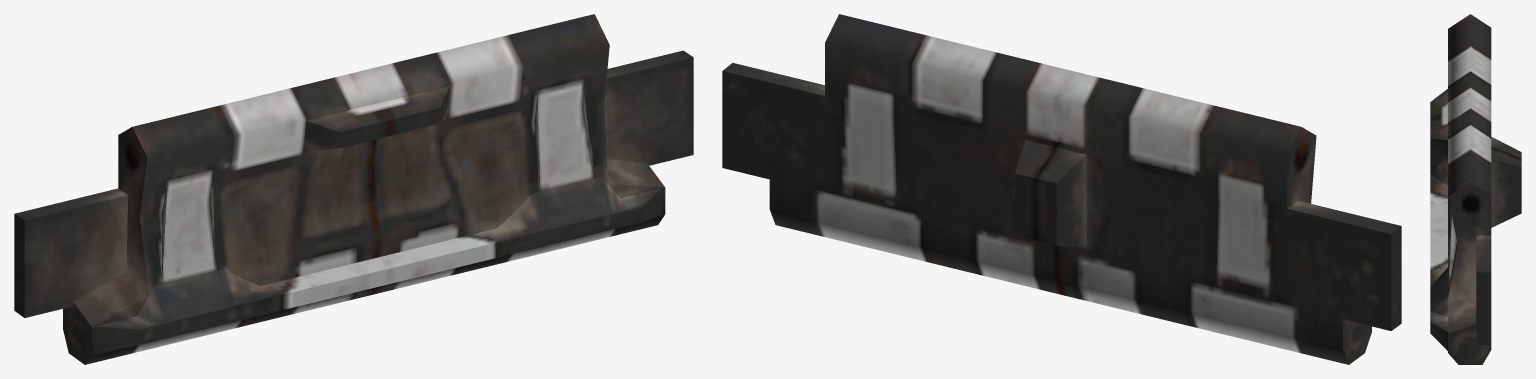
3 renders of one model, left to right at view 1: azimuth 30°, elevation 25°; view 2: azimuth 150°, elevation 25°; view 3: azimuth 270°, elevation 25°, orthographic. The views are drawn at different scales.
Visible parts, largest first — view 1: set_0_group_0; view 2: set_0_group_0; view 3: set_0_group_0.
Boxes of the visible parts, x1,y1,x2,y2 form: set_0_group_0: [14, 14, 693, 364]; set_0_group_0: [722, 14, 1401, 364]; set_0_group_0: [1430, 14, 1521, 364].
Size of the model in its own units: 0.7002 by 0.2188 by 0.1113.
Materials: 1 (1 with a texture image).
